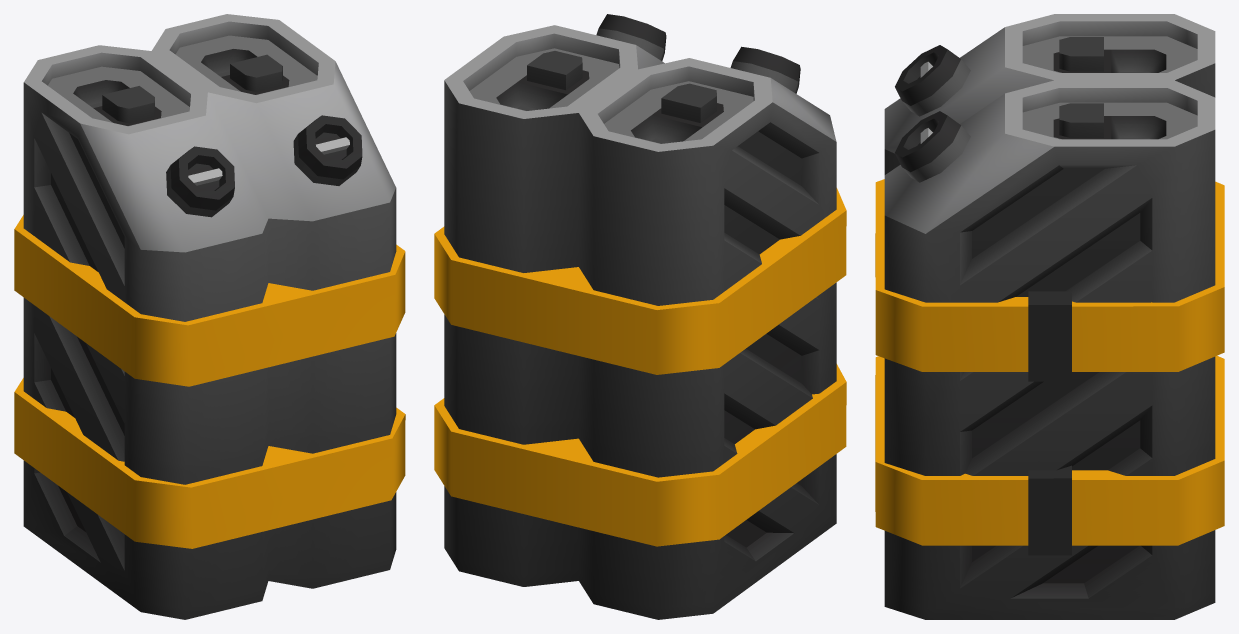
File: Gas_can_014.glb
3 renders of one model, left to right at view 1: azimuth 30°, elevation 25°; view 2: azimuth 150°, elevation 25°; view 3: azimuth 270°, elevation 25°, orthographic. The views are drawn at different scales.
Parts seen in each view (by area): view 1: Gas_can_014; view 2: Gas_can_014; view 3: Gas_can_014.
Boxes of the visible parts, x1,y1,x2,y2 form: Gas_can_014: (14,14,405,619); Gas_can_014: (434,14,846,619); Gas_can_014: (875,14,1224,619).
Size of the model in its own units: 0.3217 by 0.4906 by 0.3277.
Materials: 1 (1 with a texture image).
